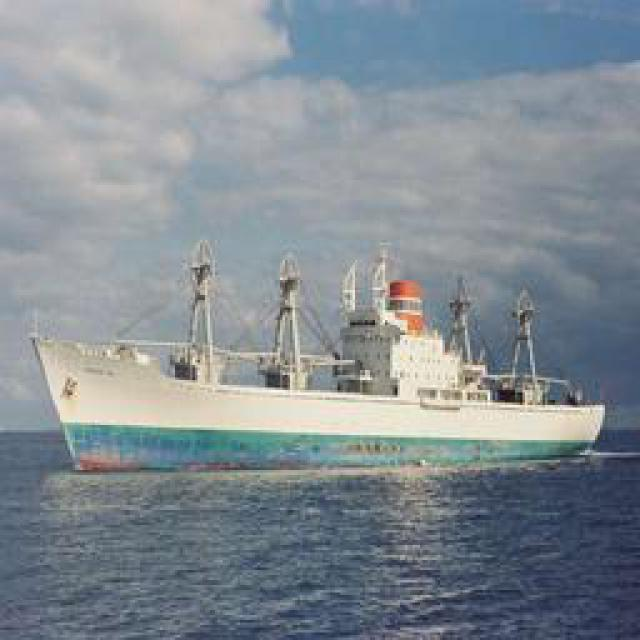Ship: (51, 245, 604, 478)
